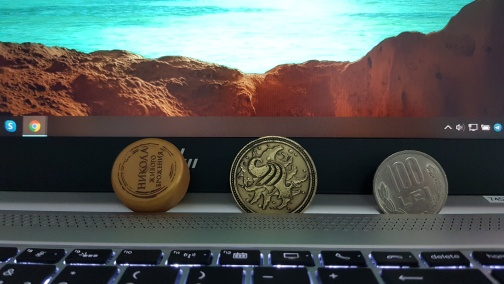coin: (229, 135, 318, 213), (373, 150, 449, 216)
